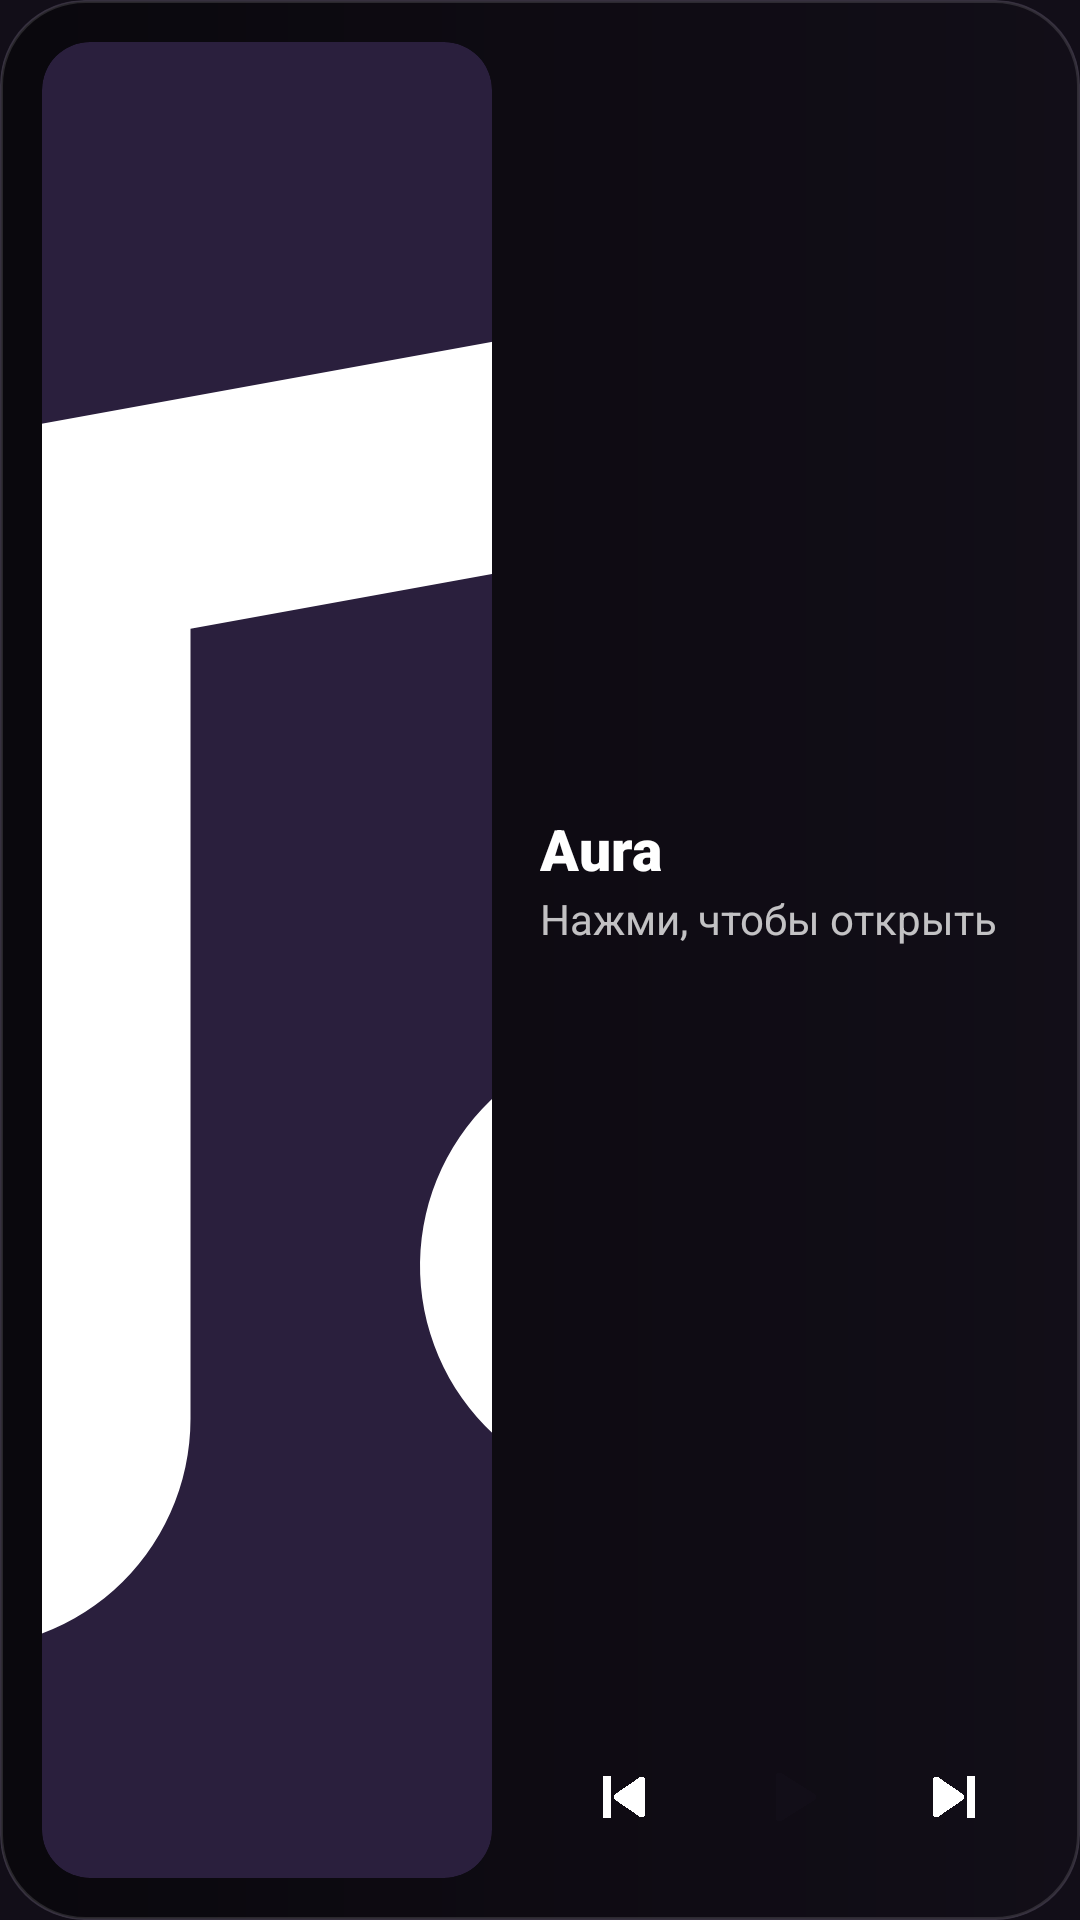

Icons on this 1080x1920 Android screen, each with the point to tap as point (x, y):
Вперёд: point (954, 1797)
Назад: point (624, 1797)
